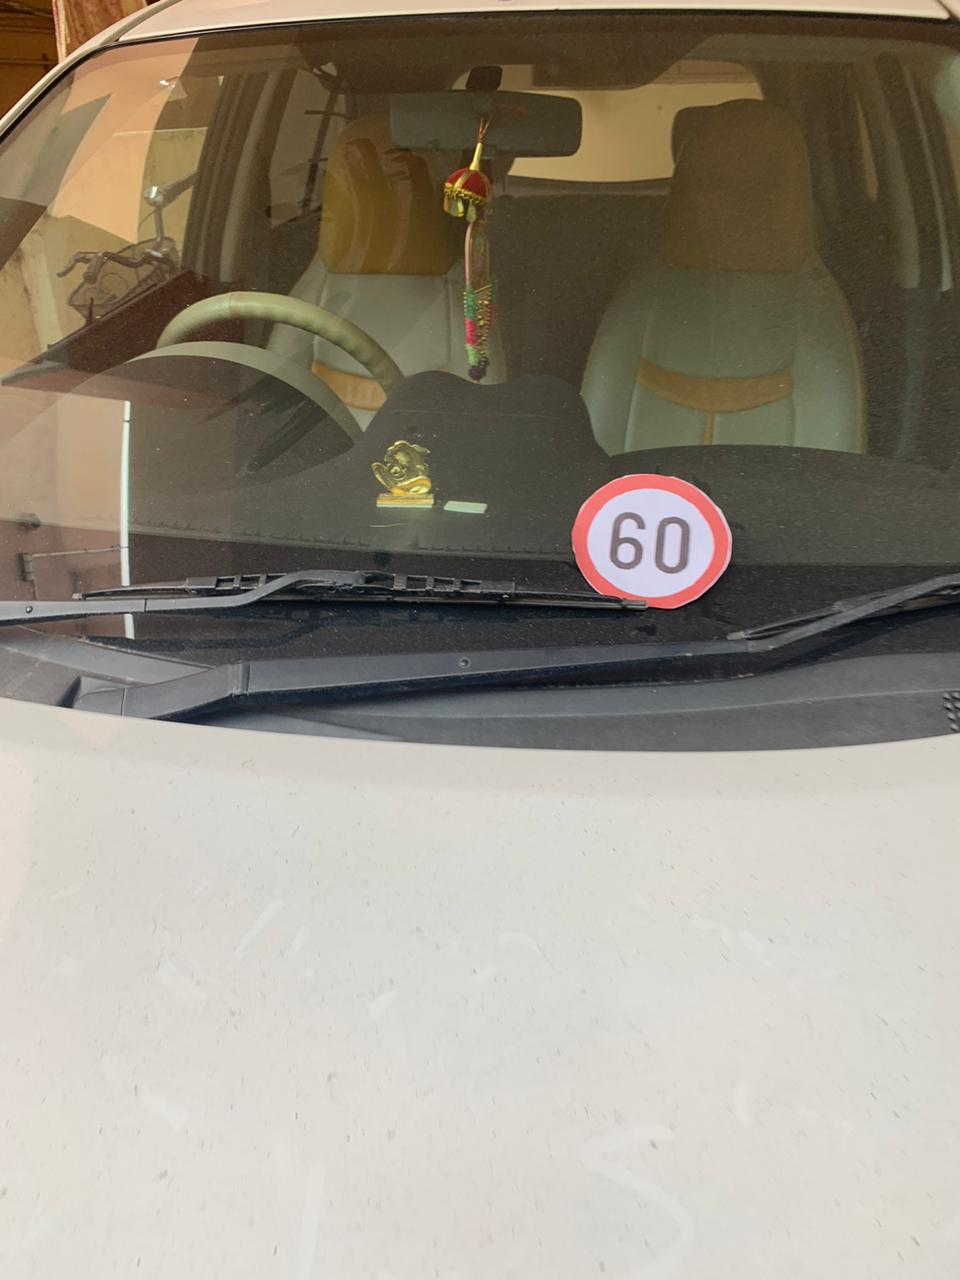SPEED LIMIT (60 KM/H): (576, 435, 753, 619)
